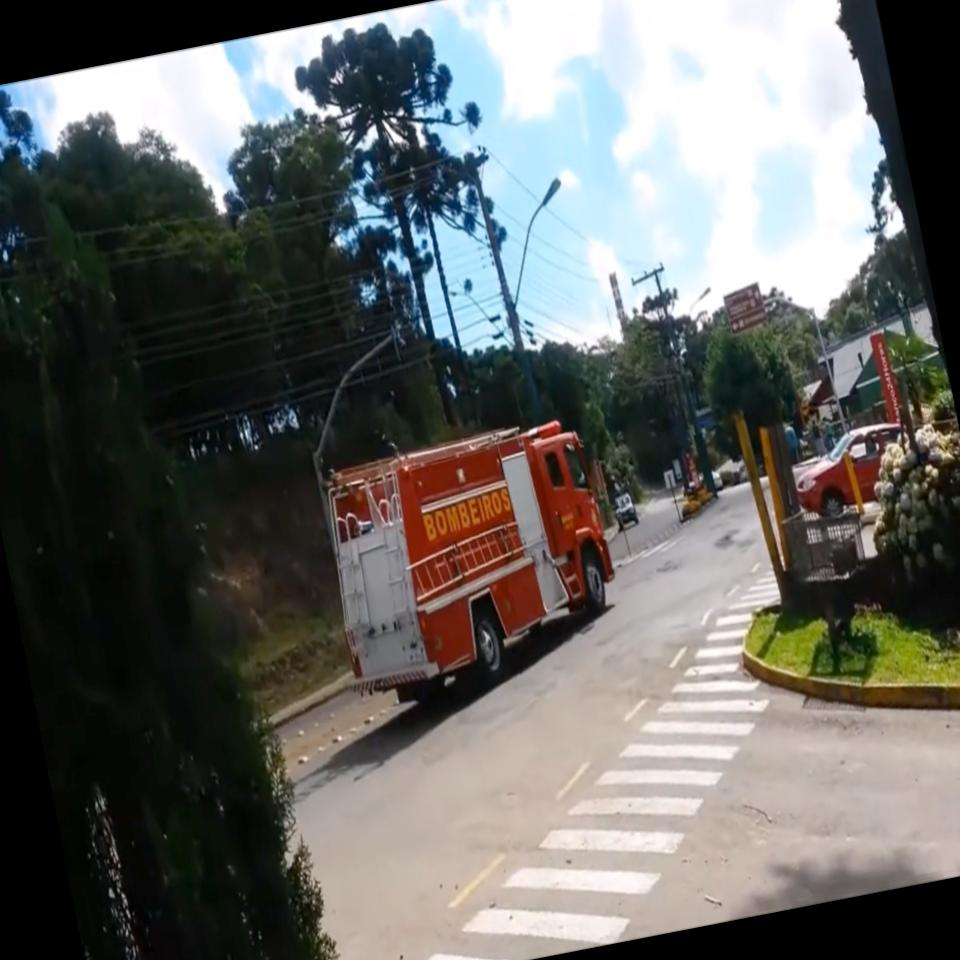viatura: (305, 409, 634, 717)
